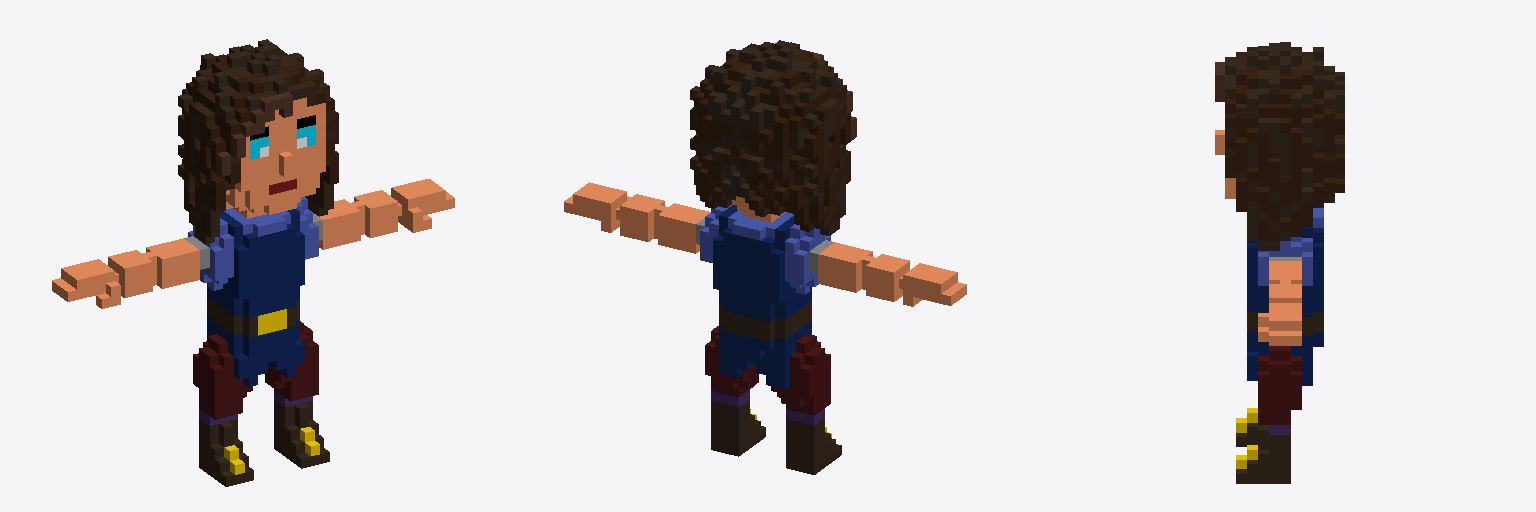
The picture shows the model from 3 angles: view 1: azimuth 30°, elevation 25°; view 2: azimuth 150°, elevation 25°; view 3: azimuth 270°, elevation 25°; orthographic projection.
Size of the model in its own units: 41 by 41 by 12.
1 materials, 1 textured.